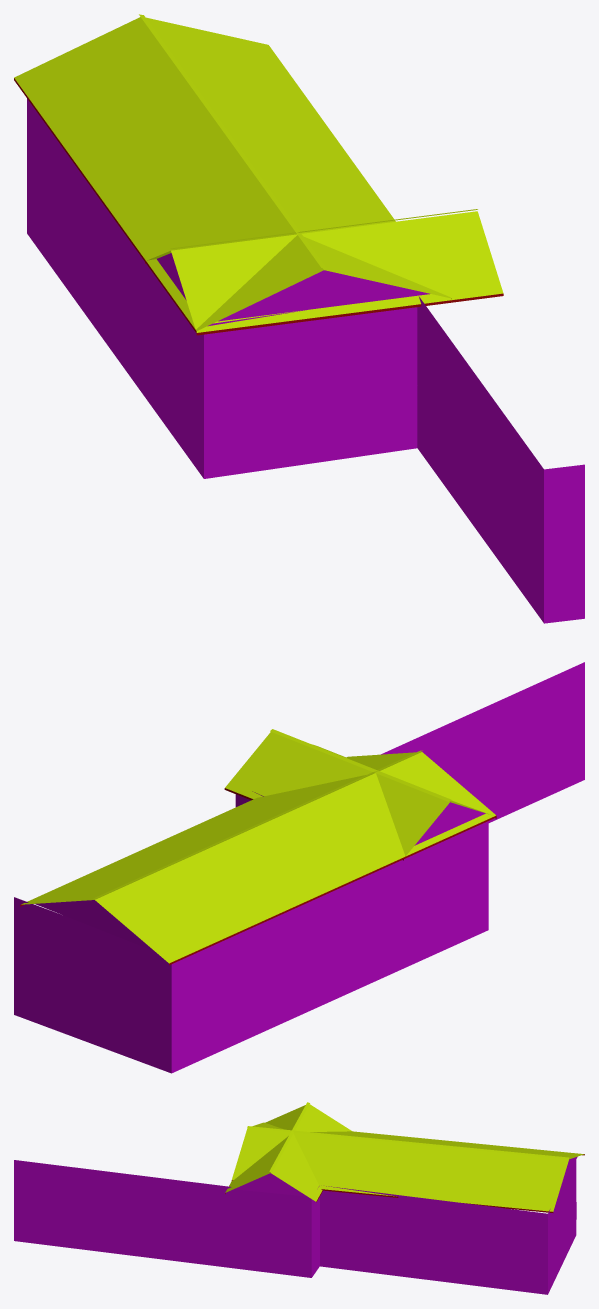
File: ces_69.glb
3 renders of one model, top to bottom at view 1: azimuth 30°, elevation 25°; view 2: azimuth 150°, elevation 25°; view 3: azimuth 270°, elevation 25°, orthographic. The views are drawn at different scales.
Parts seen in each view (by area): view 1: ces_69; view 2: ces_69; view 3: ces_69.
Boxes of the visible parts, x1,y1,x2,y2 form: ces_69: (14,14,584,623); ces_69: (14,662,584,1073); ces_69: (14,1102,584,1294).
Size of the model in its own units: 18.14 by 9.52 by 47.2.
